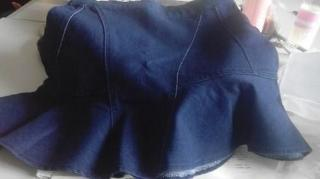skirt: (0, 0, 312, 179)
